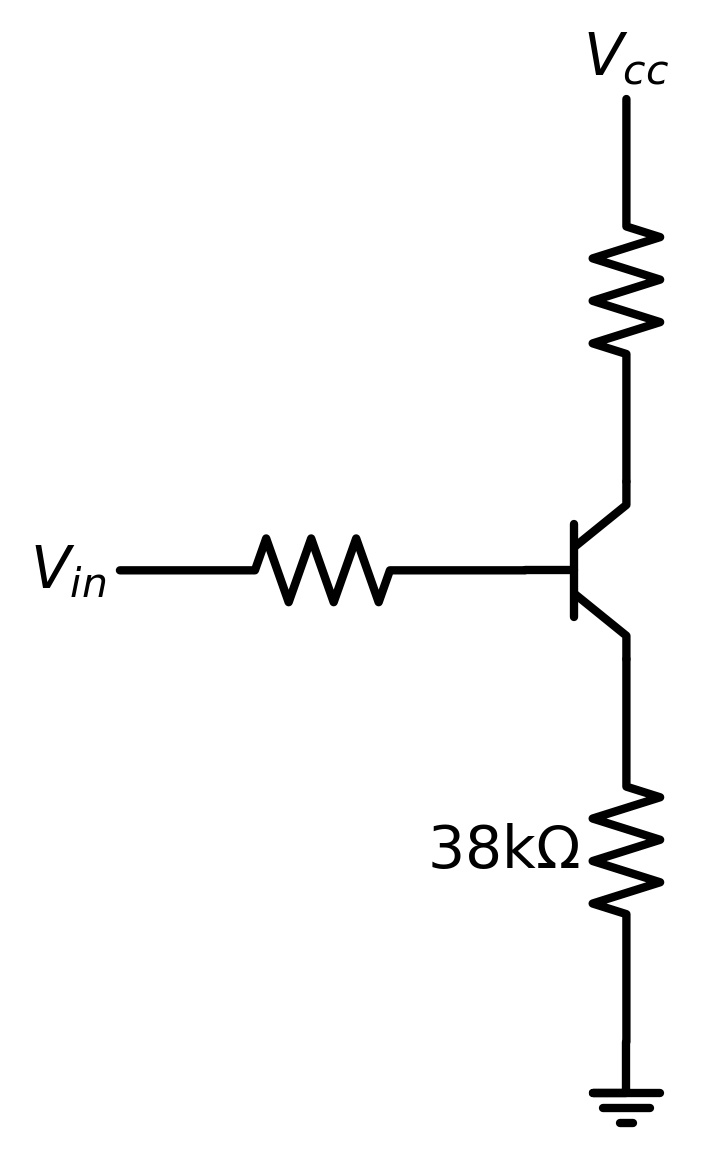bjt: (547, 476, 647, 666)
ground: (584, 1076, 676, 1145)
resistor: (575, 198, 677, 381), (230, 514, 402, 622), (584, 771, 676, 930)
